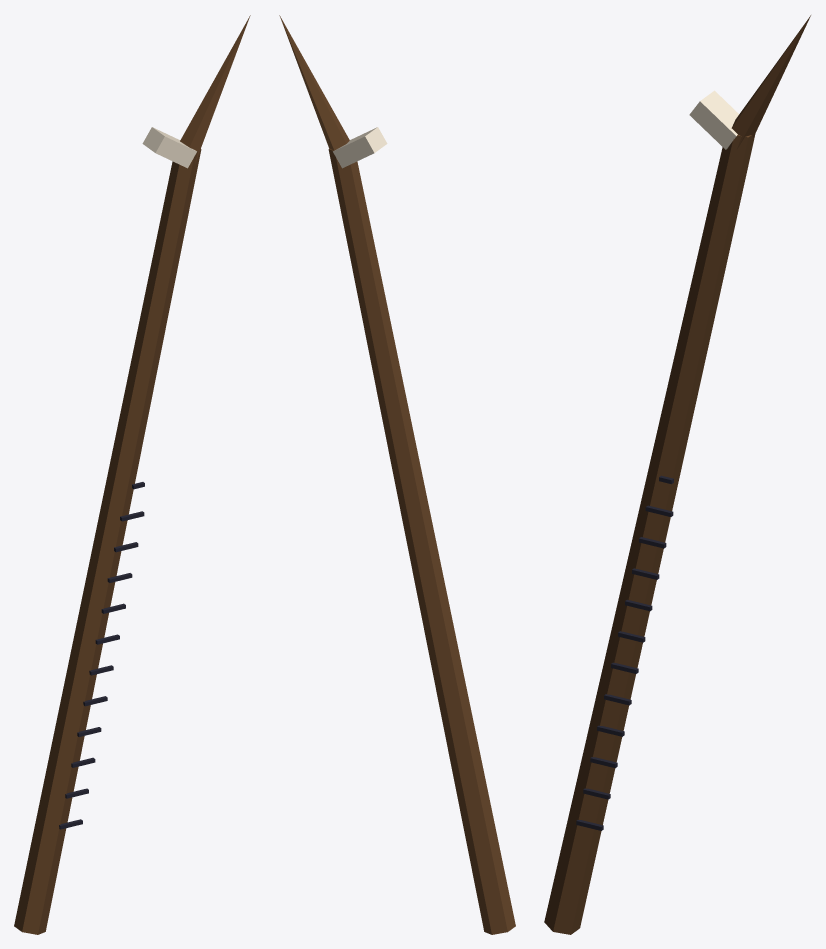
File: prop_broken_pole.glb
3 renders of one model, left to right at view 1: azimuth 30°, elevation 25°; view 2: azimuth 150°, elevation 25°; view 3: azimuth 330°, elevation 25°, orthographic. The views are drawn at different scales.
Parts seen in each view (by area): view 1: prop_broken_pole; view 2: prop_broken_pole; view 3: prop_broken_pole.
Boxes of the visible parts, left/top/right/bottom form: prop_broken_pole: left=14, top=15, right=250, bottom=934; prop_broken_pole: left=279, top=15, right=515, bottom=934; prop_broken_pole: left=544, top=15, right=810, bottom=934.
Size of the model in its own units: 0.832 by 2.95 by 0.106.
